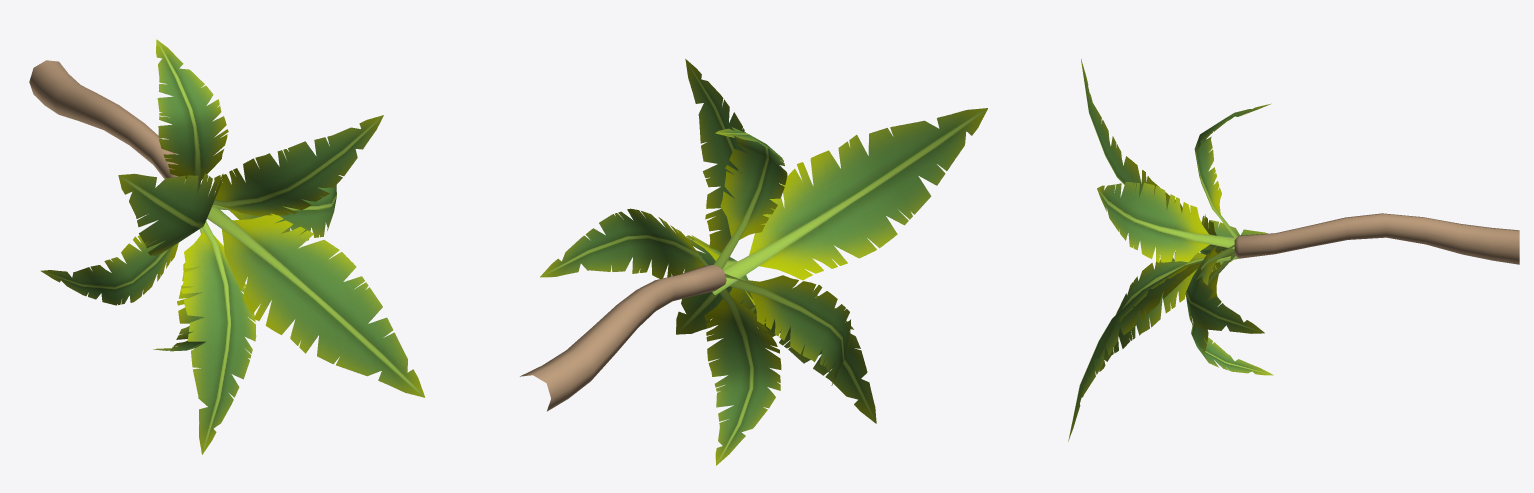
The model's file is palm_tree_03.glb.
The picture shows the model from 3 angles, left to right: view 1: azimuth 30°, elevation 25°; view 2: azimuth 150°, elevation 25°; view 3: azimuth 270°, elevation 25°; orthographic projection. The views are drawn at different scales.
Visible parts, largest first — view 1: PalmTree_3; view 2: PalmTree_3; view 3: PalmTree_3.
Boxes of the visible parts, x1,y1,x2,y2 form: PalmTree_3: [29, 39, 424, 454]; PalmTree_3: [520, 59, 987, 465]; PalmTree_3: [1068, 59, 1519, 441].
Size of the model in its own units: 4.47 by 4.22 by 4.67.
2 materials, 1 textured.
